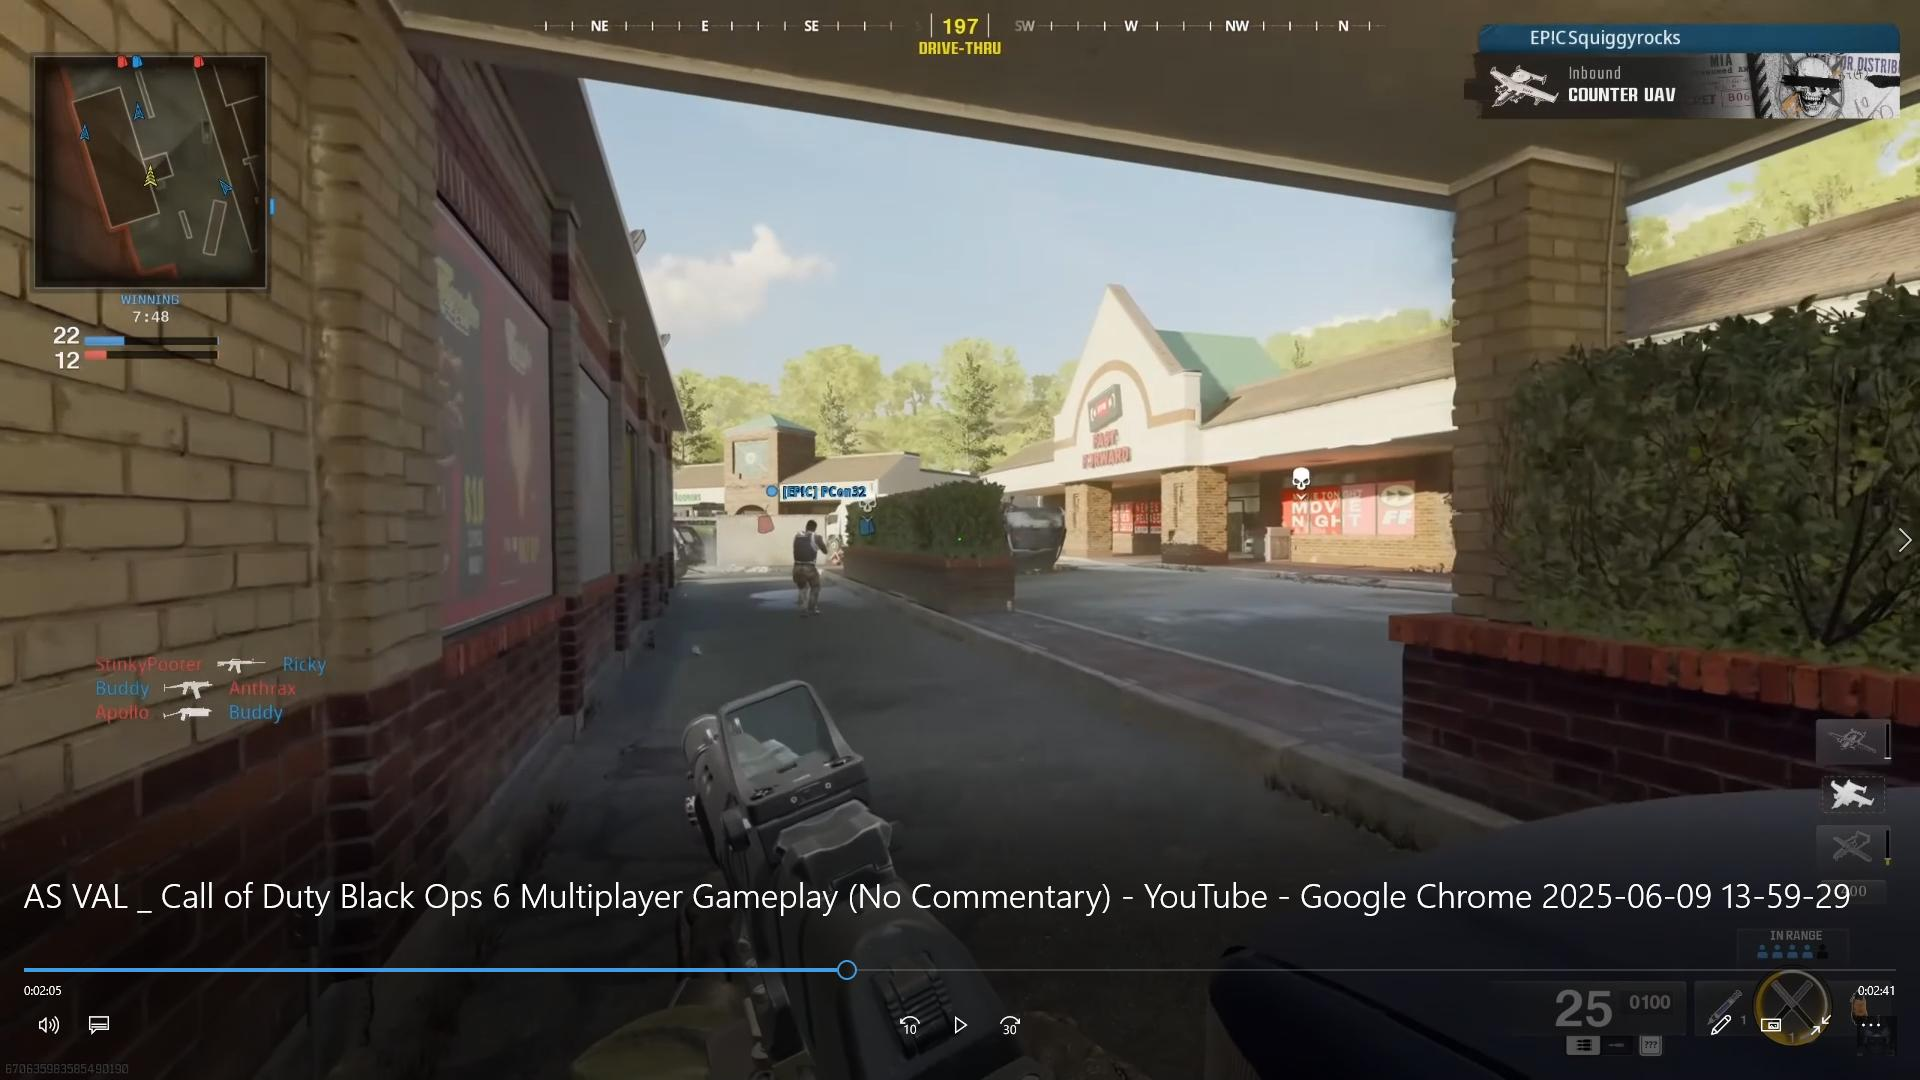Enemy: (774, 517, 837, 615)
